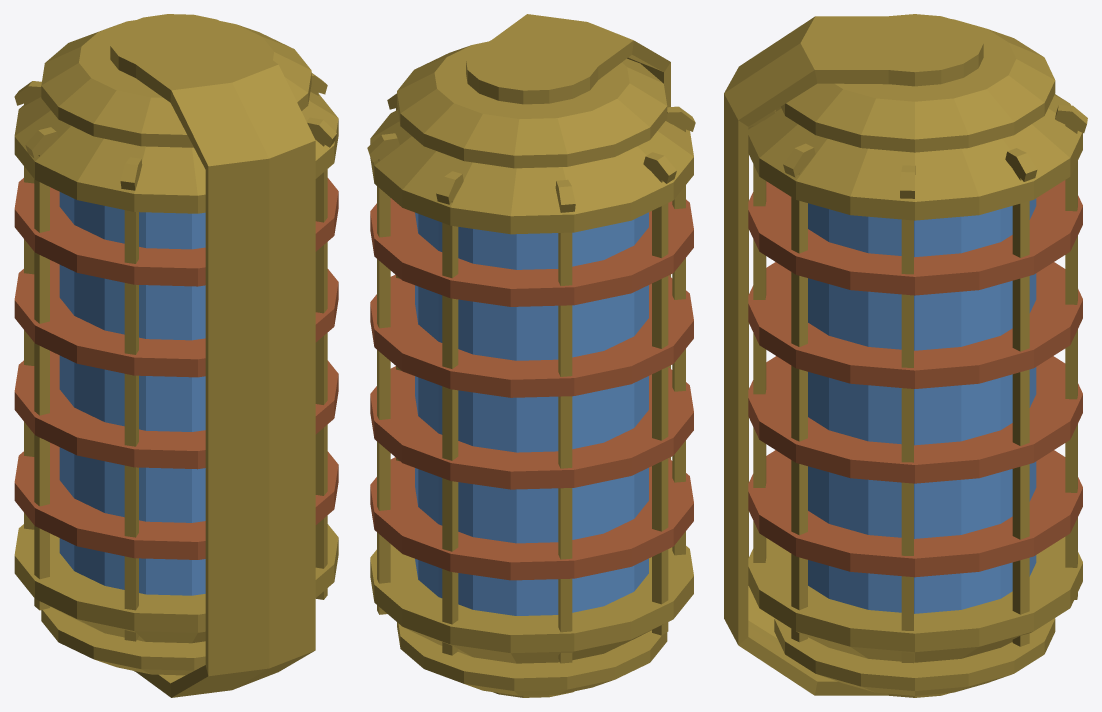
Rendered from fuel_tank.fbx.
The picture shows the model from 3 angles, left to right: view 1: azimuth 30°, elevation 25°; view 2: azimuth 150°, elevation 25°; view 3: azimuth 270°, elevation 25°; orthographic projection. The views are drawn at different scales.
Parts seen in each view (by area): view 1: fuel container; view 2: fuel container; view 3: fuel container.
Boxes of the visible parts, box(x1,y1,x2,y2) form: fuel container: box(14, 14, 338, 697); fuel container: box(367, 14, 695, 697); fuel container: box(724, 14, 1087, 697).
Bounding box in the file's own units: 175 × 351 × 185.
